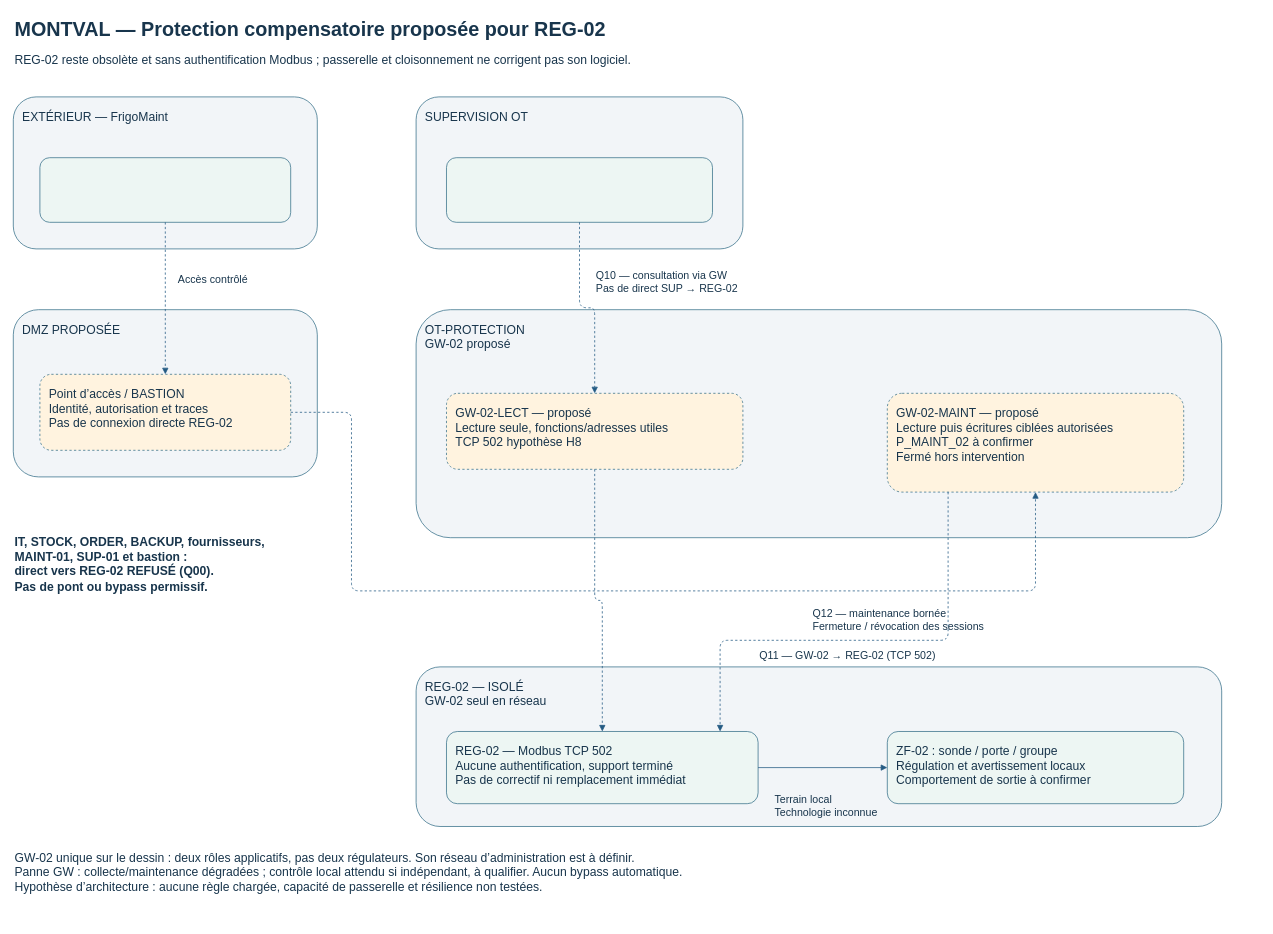
Image size: 1273x934. Some labels were removed from this diagram. Here are the shapes that lost their labels. From the top down, the centre of each, then its label:
At [165,189]: "MAINT-01 Session externe autorisée".
At [579,189]: "SUP-01 Lecture des mesures et alarmes".
